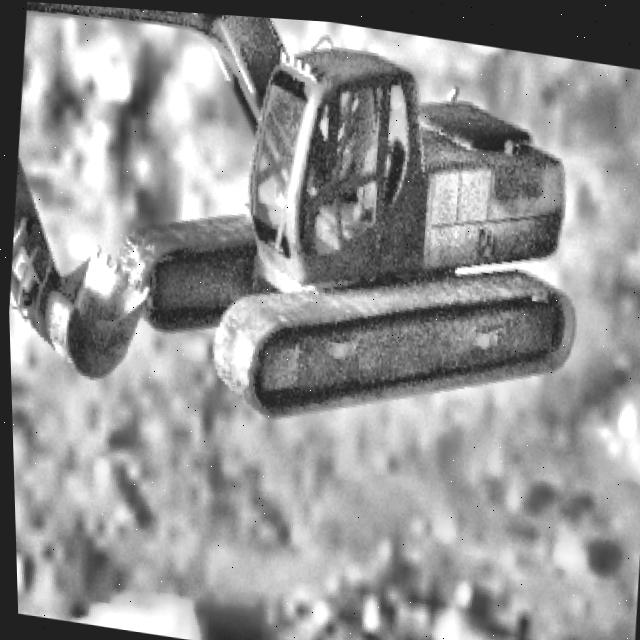excavator: (0, 0, 597, 454)
